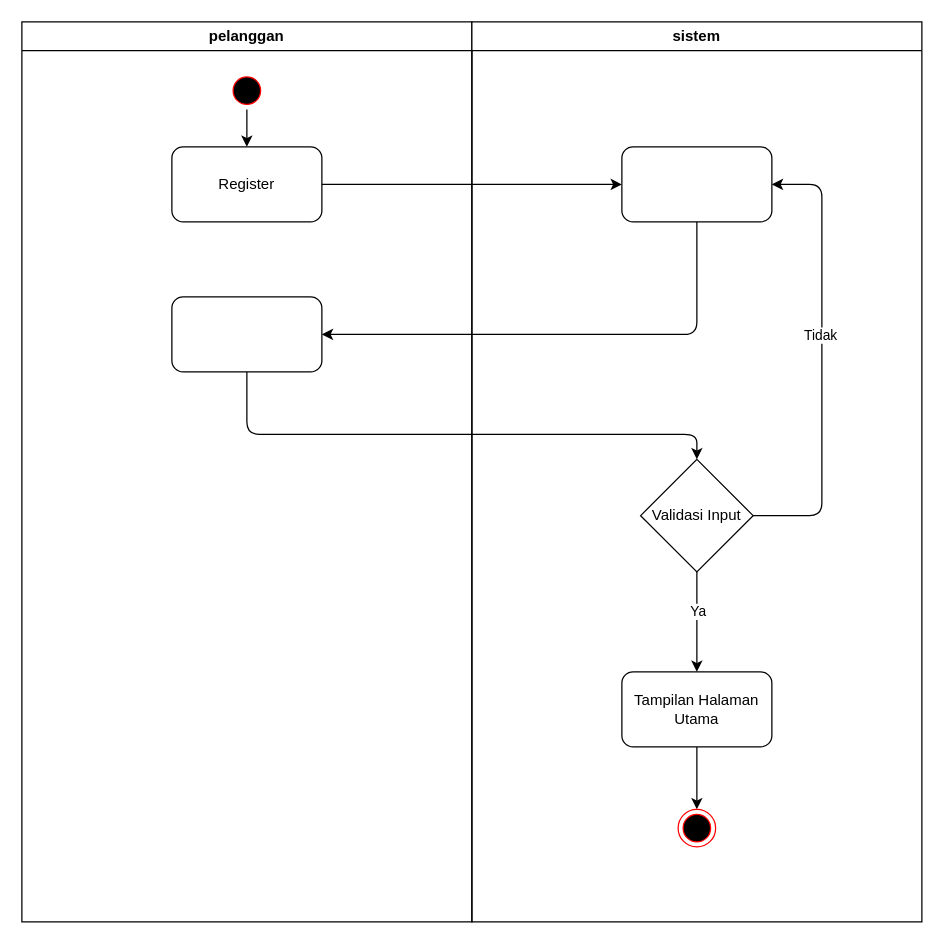
Some shapes in this 944 by 944 pixel diagram are drawn without their labels. The shapes that lost their labels are listed below. From the top down, each one's centre as x and y in pixels, then its label:
point (696, 184): Tampilan Halaman Register
point (246, 334): Input Name, Email, Password dan Konfirmasi Password
